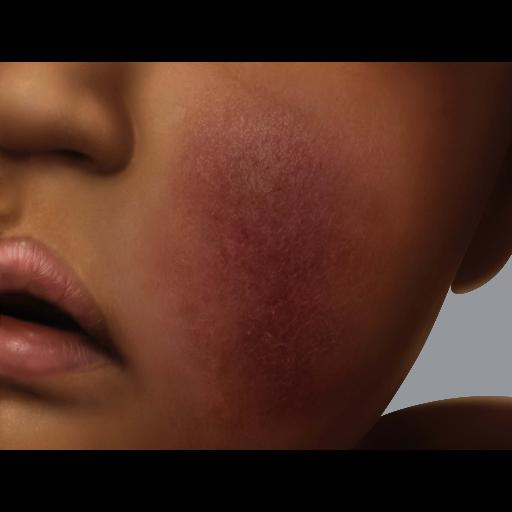Skin_Lesion: (232, 273, 326, 415), (200, 118, 284, 166), (256, 176, 324, 234), (231, 218, 259, 248)
